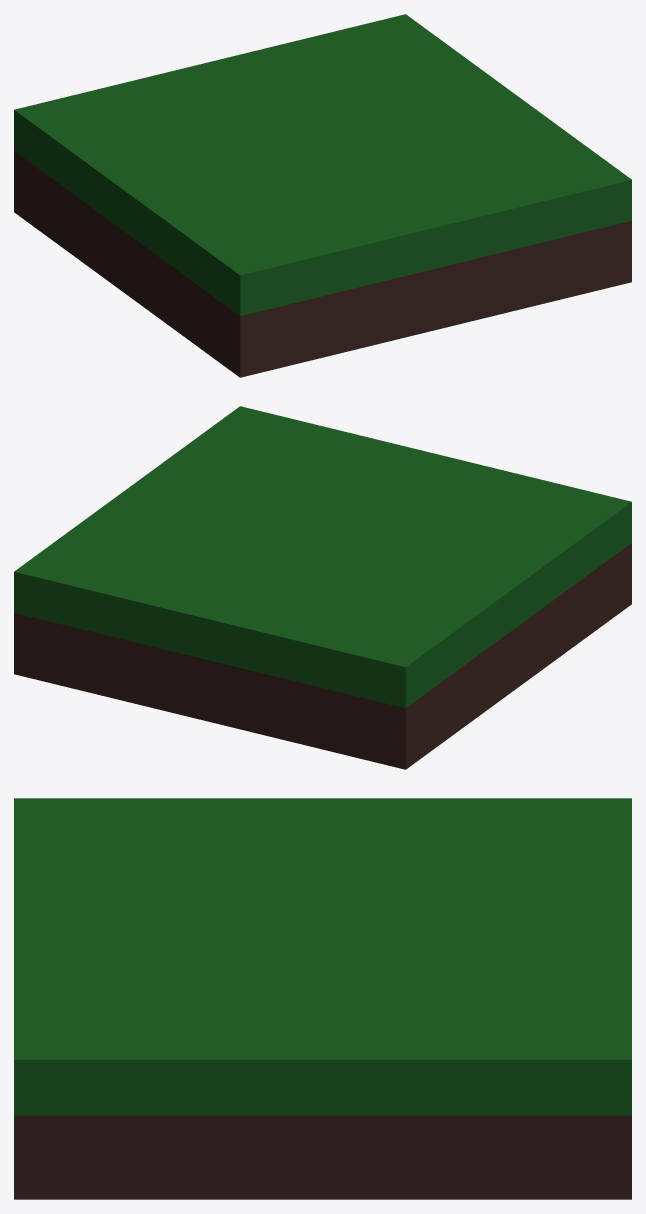
Rendered from groundtile.FBX.
The picture shows the model from 3 angles, top to bottom: view 1: azimuth 30°, elevation 25°; view 2: azimuth 150°, elevation 25°; view 3: azimuth 270°, elevation 25°; orthographic projection. The views are drawn at different scales.
Visible parts, largest first — view 1: Box002; view 2: Box002; view 3: Box002.
Part boxes in pixels (x1,y1,x2,y2): Box002: (14,14,631,377); Box002: (14,406,631,769); Box002: (14,798,631,1199).
Bounding box in the file's own units: 2 × 0.5 × 2.
